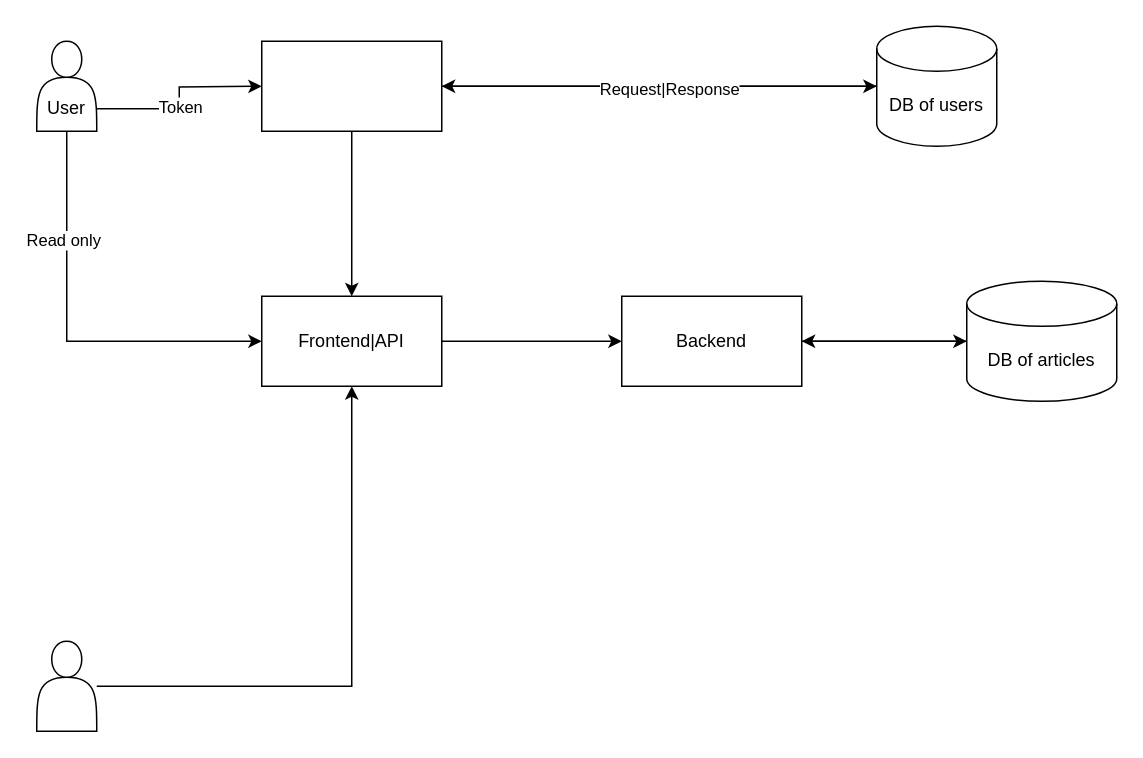
This 1143x758 diagram has some shape labels left out. The centre of each missing label's shape, as x and y in pixels:
"Authorization server" goes at pixel 351 85.
"Me" goes at pixel 66 685.
